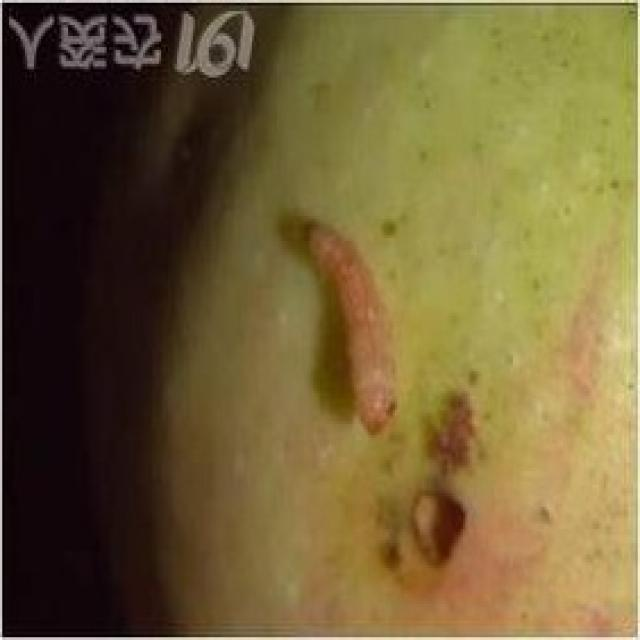peach borer: (302, 228, 404, 450)
